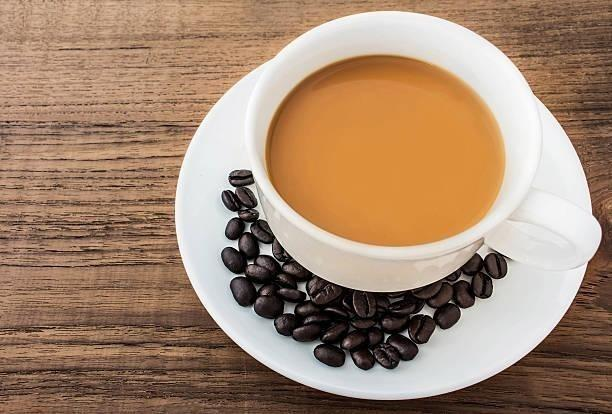cup-handle: (242, 8, 601, 296)
